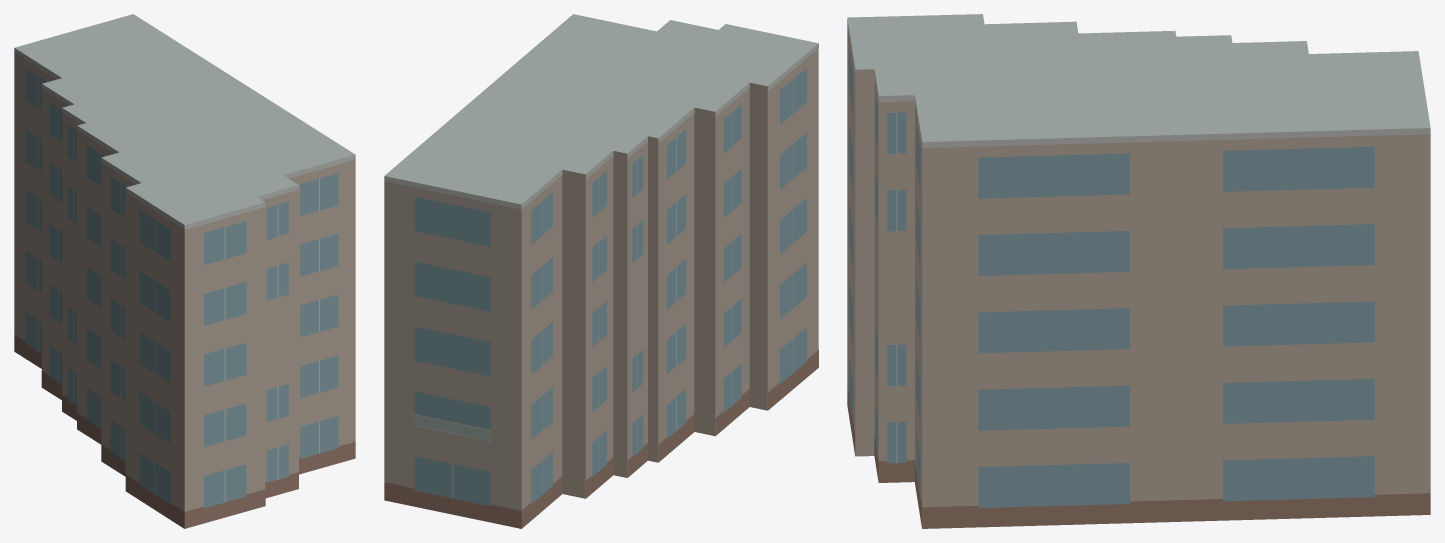
The model's file is survey-upis-32961889.glb.
3 renders of one model, left to right at view 1: azimuth 30°, elevation 25°; view 2: azimuth 150°, elevation 25°; view 3: azimuth 270°, elevation 25°, orthographic. The views are drawn at different scales.
Visible parts, largest first — view 1: survey-upis-32961889.tmp; view 2: survey-upis-32961889.tmp; view 3: survey-upis-32961889.tmp.
Boxes of the visible parts, bbox=[...] form: survey-upis-32961889.tmp: bbox=[14, 14, 355, 528]; survey-upis-32961889.tmp: bbox=[384, 14, 818, 528]; survey-upis-32961889.tmp: bbox=[847, 14, 1430, 528].
Bounding box in the file's own units: 10.94 × 15.4 × 21.06.
